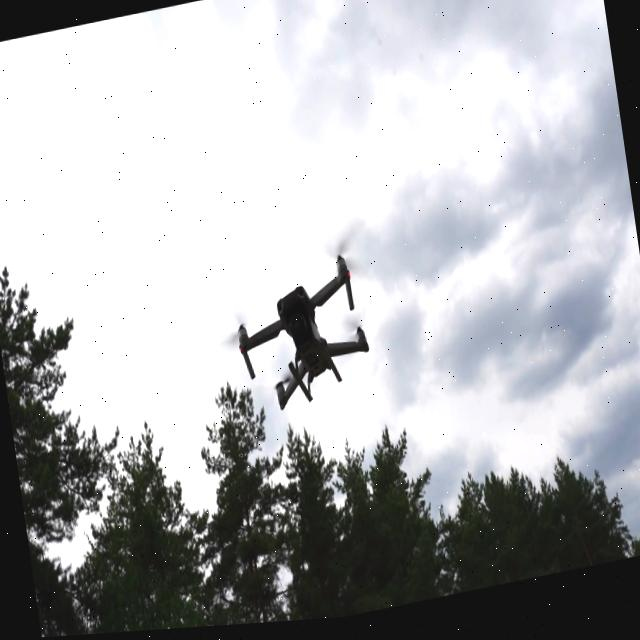drone: (193, 228, 410, 422)
